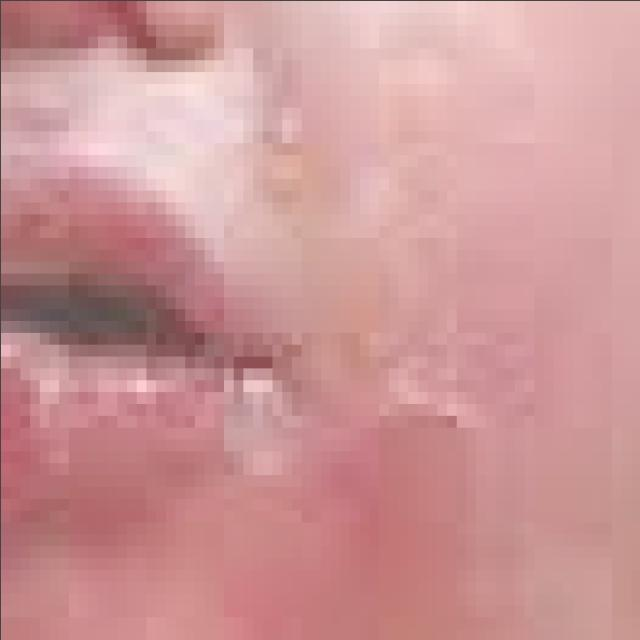burn: (2, 0, 639, 639)
